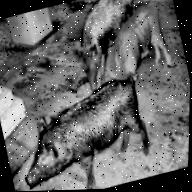boar: (3, 71, 166, 192), (55, 0, 152, 95)
